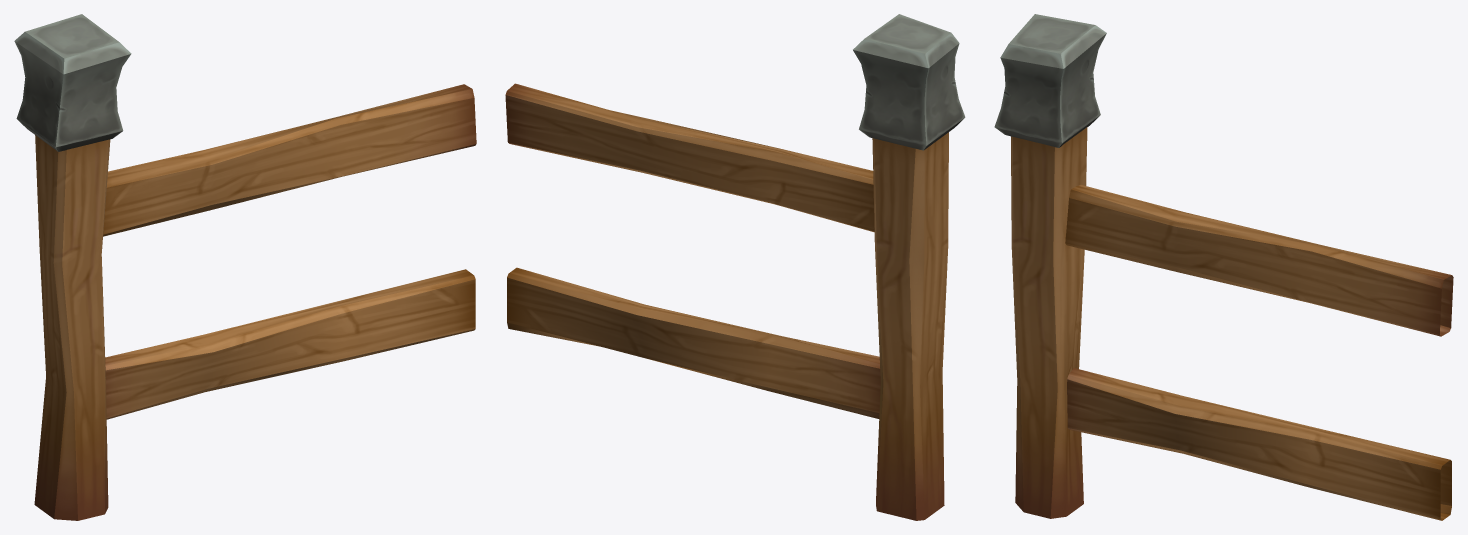
Rendered from Fence #2 - Bars.fbx.
3 views of the same model, side by side, from view 1: azimuth 30°, elevation 25°; view 2: azimuth 150°, elevation 25°; view 3: azimuth 330°, elevation 25° (orthographic).
Parts seen in each view (by area): view 1: Fence #2 - Bars; view 2: Fence #2 - Bars; view 3: Fence #2 - Bars.
Part boxes in pixels (x1,y1,x2,y2): Fence #2 - Bars: (14,14,476,520); Fence #2 - Bars: (505,14,965,520); Fence #2 - Bars: (994,14,1453,520).
Size of the model in its own units: 142 by 147 by 25.37.
Materials: 1 (1 with a texture image).
